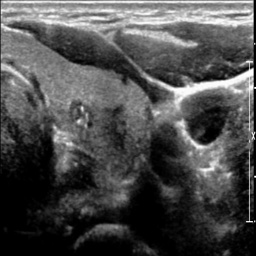mass: (90, 112, 141, 190)
